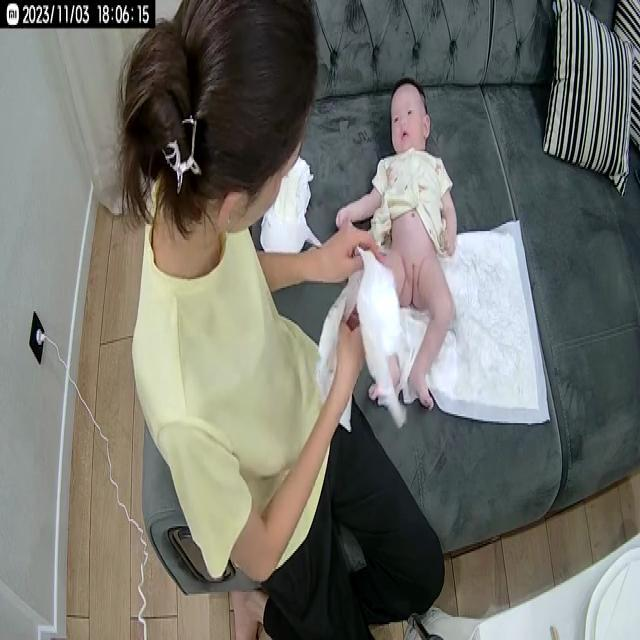baby: (334, 66, 464, 422)
